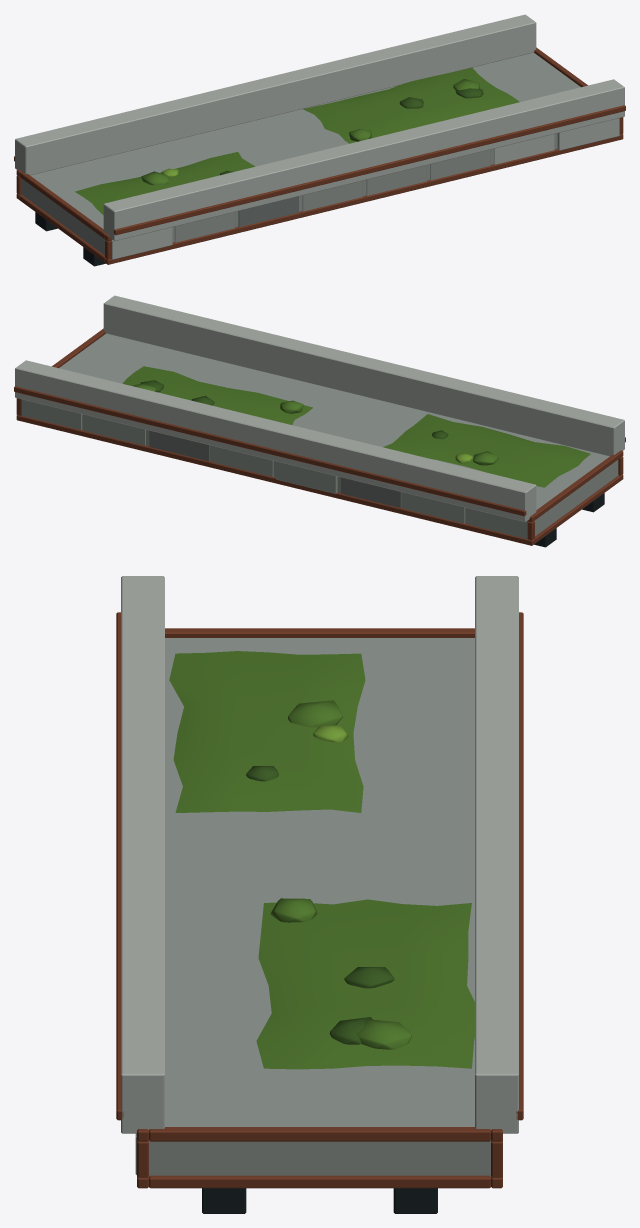
File: RUIN_BRG_Span_8.glb
3 views of the same model, one above another, from view 1: azimuth 30°, elevation 25°; view 2: azimuth 150°, elevation 25°; view 3: azimuth 270°, elevation 25° (orthographic). The views are drawn at different scales.
Visible parts, largest first — view 1: RUIN_BRG_Span_8; view 2: RUIN_BRG_Span_8; view 3: RUIN_BRG_Span_8.
Boxes of the visible parts, x1,y1,x2,y2 form: RUIN_BRG_Span_8: (14, 14, 625, 266); RUIN_BRG_Span_8: (14, 295, 625, 547); RUIN_BRG_Span_8: (116, 576, 523, 1213).
Size of the model in its own units: 8.08 by 1.05 by 2.76.
